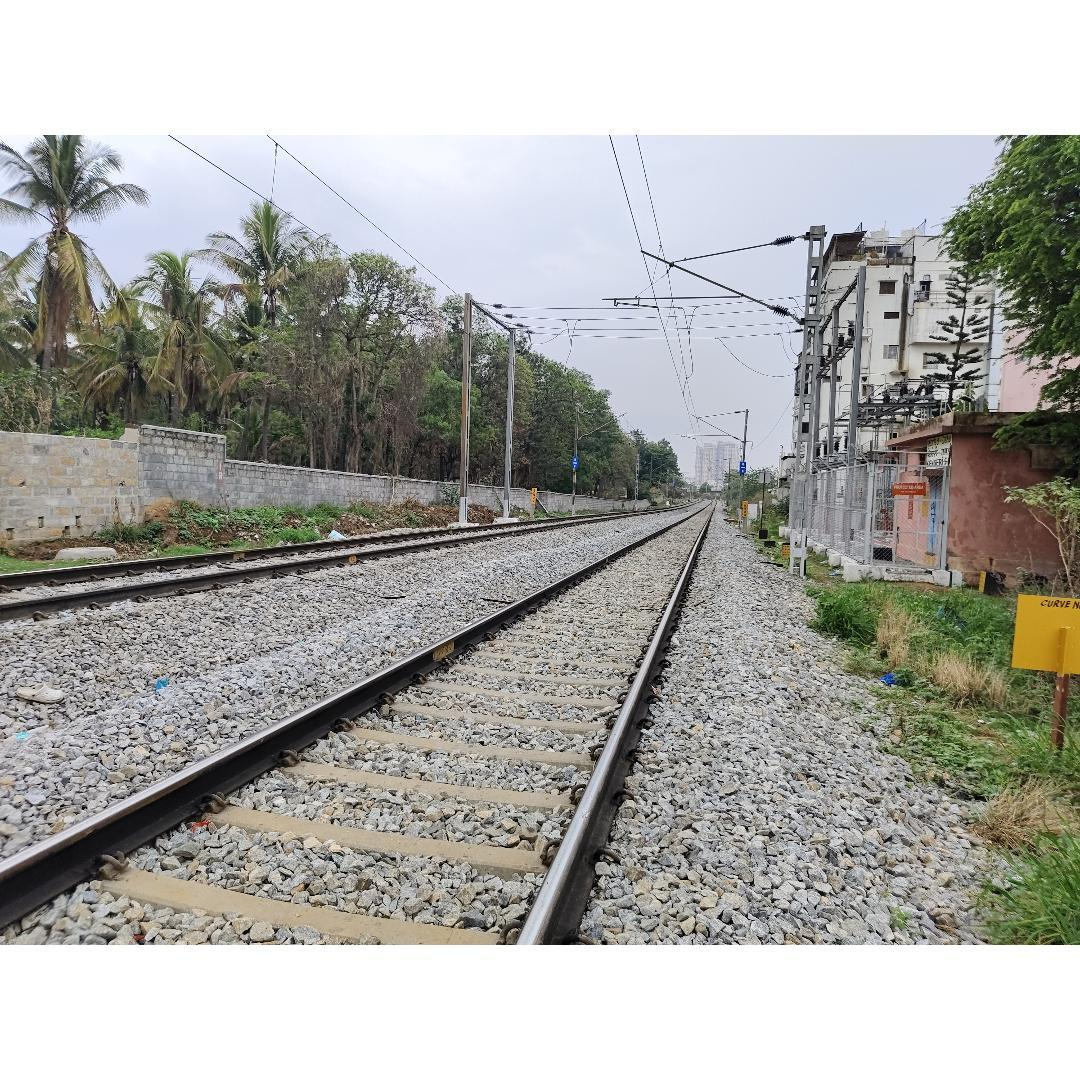track: (0, 496, 744, 945)
